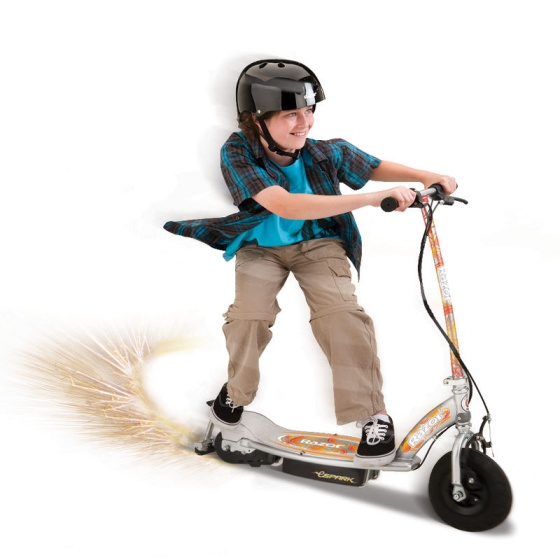scooter: (187, 176, 515, 534)
with helmet: (233, 53, 327, 158)
